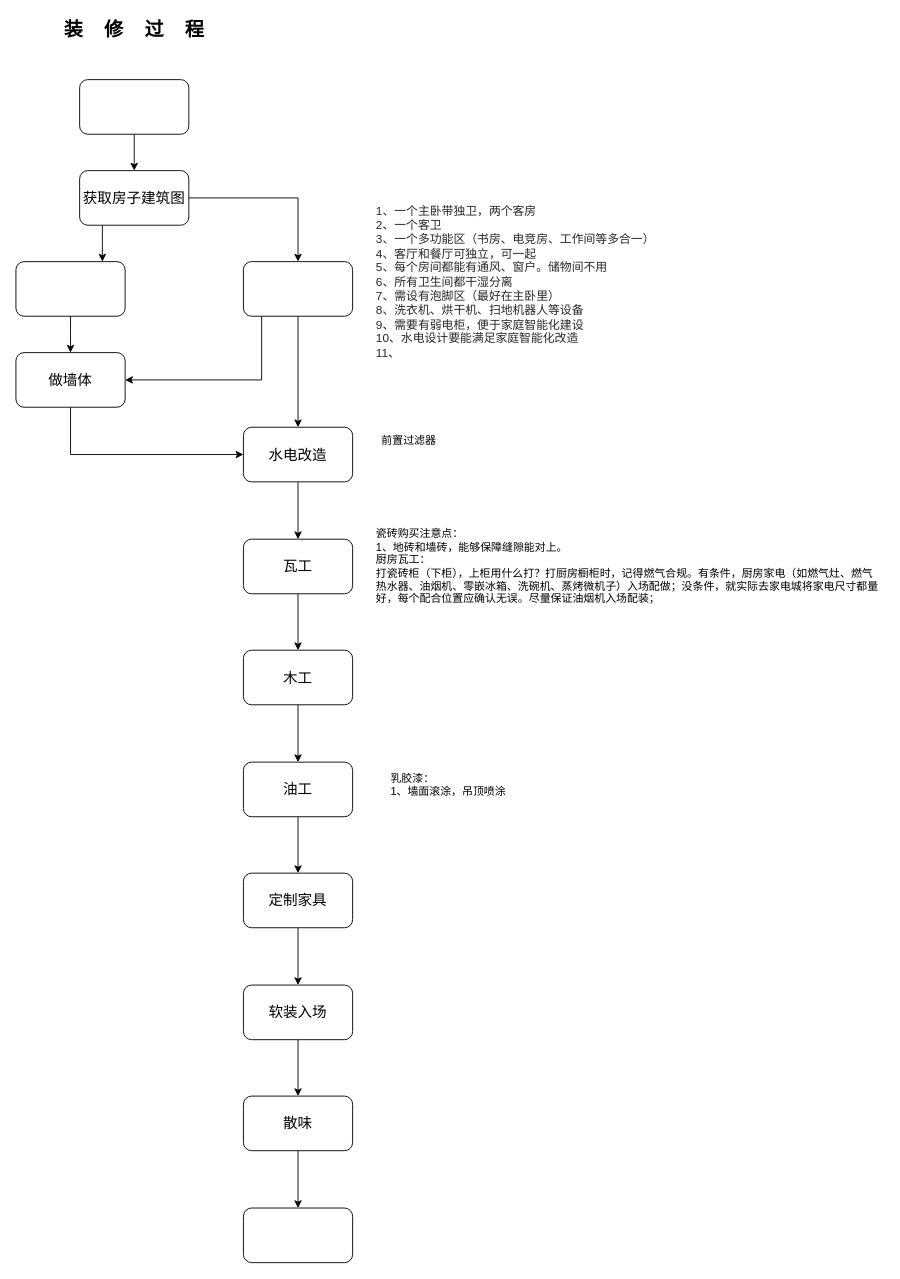
Some shapes in this 900 by 1279 pixel diagram are drawn without their labels. The shapes that lost their labels are listed below. From the top down, each one's centre as x and y in pixels, then its label:
point 134,106: 收房，拿到房屋、房产证
point 70,288: 拆墙体
point 298,288: 设计房屋
point 298,1235: 入住
